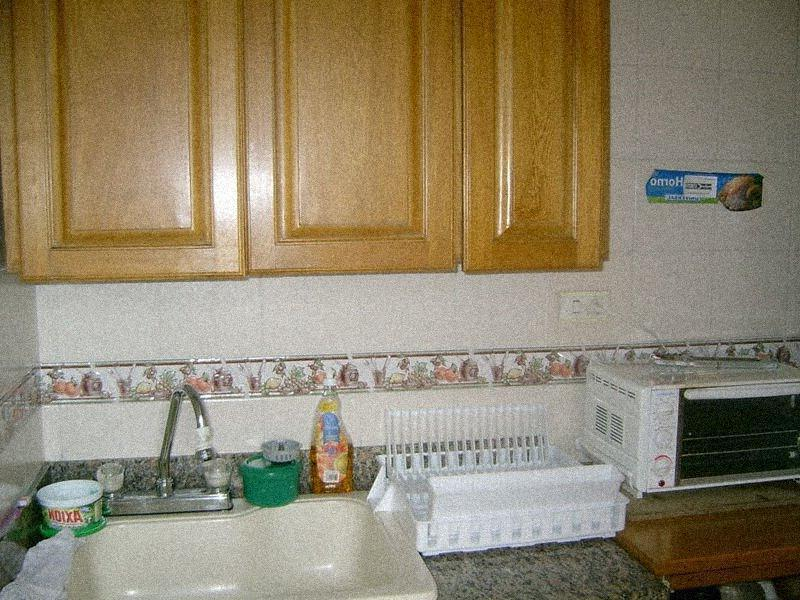Lavaplatos: (32, 399, 416, 596)
